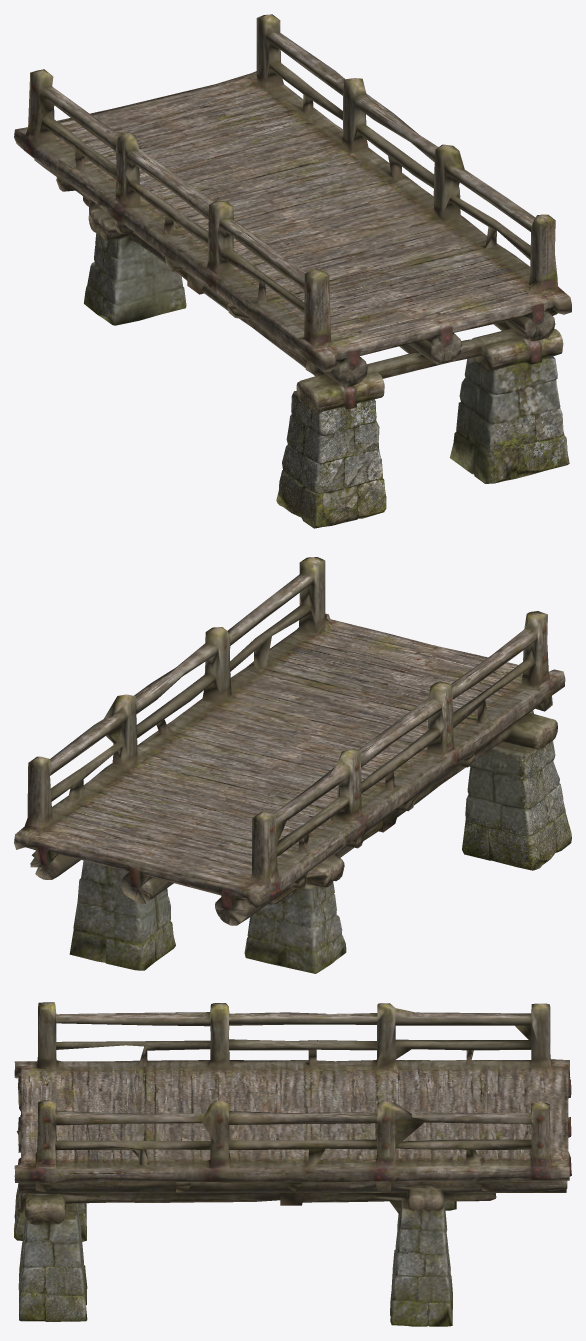
File: bridge.glb
3 renders of one model, top to bottom at view 1: azimuth 30°, elevation 25°; view 2: azimuth 150°, elevation 25°; view 3: azimuth 270°, elevation 25°, orthographic. The views are drawn at different scales.
Visible parts, largest first — view 1: wooden bridge 3d model; view 2: wooden bridge 3d model; view 3: wooden bridge 3d model.
Boxes of the visible parts, <box> form: wooden bridge 3d model: <box>14,14,571,528</box>; wooden bridge 3d model: <box>14,557,571,973</box>; wooden bridge 3d model: <box>14,1002,571,1326</box>.
Size of the model in its own units: 6.59 by 5.69 by 13.26.
1 material, 1 textured.
